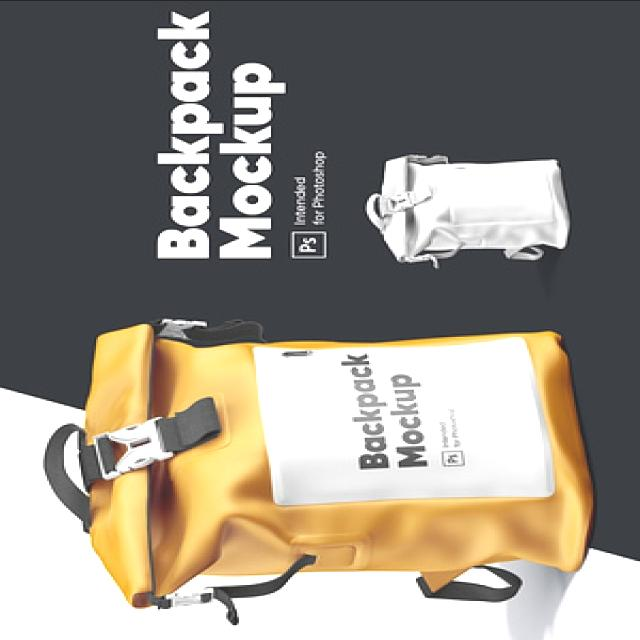backpack: (42, 318, 594, 627), (360, 143, 584, 277)
